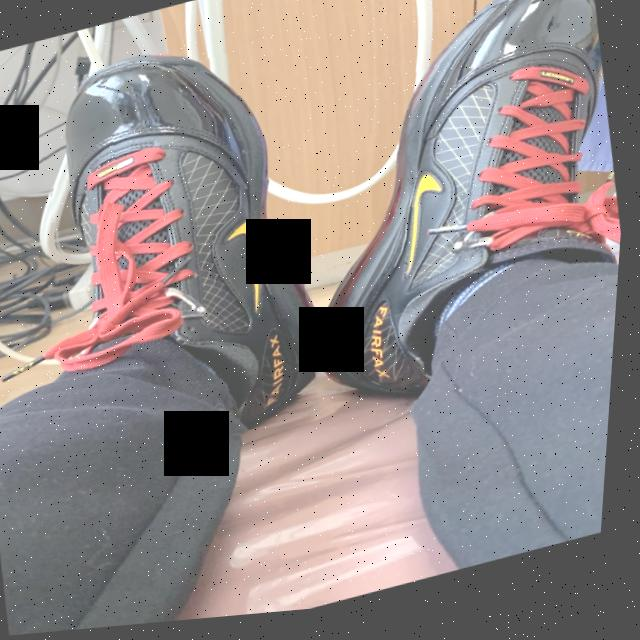shoe: (255, 0, 639, 436), (14, 14, 356, 481)
